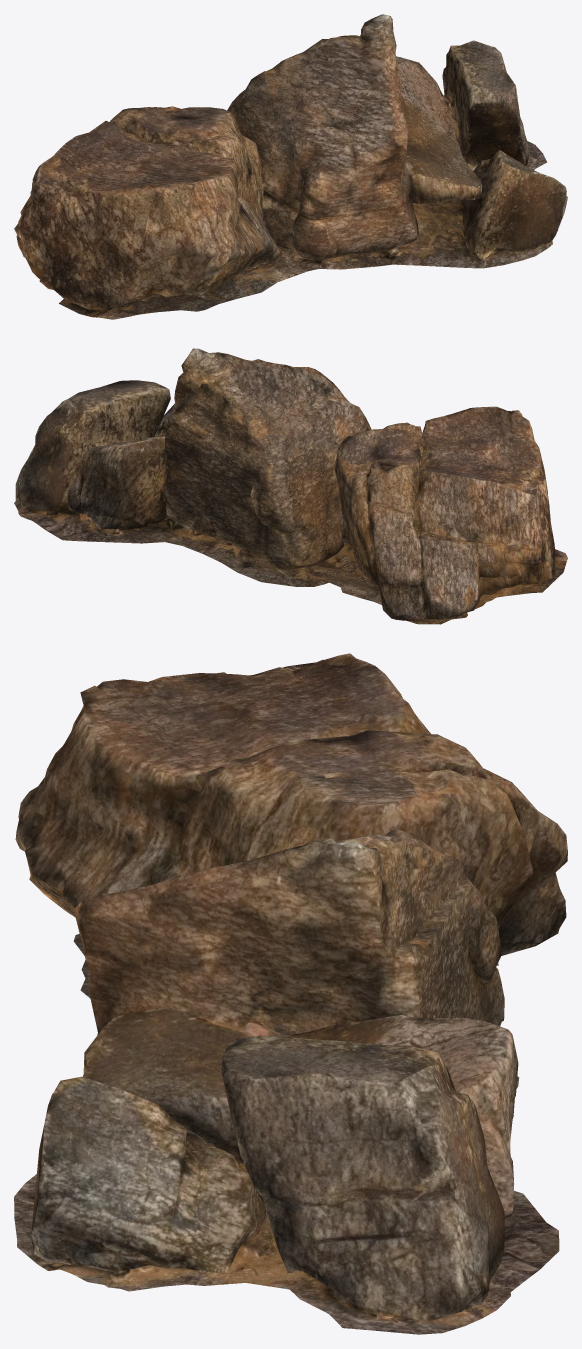
Rendered from ph_namaqualand_boulder_02.glb.
3 views of the same model, one above another, from view 1: azimuth 30°, elevation 25°; view 2: azimuth 150°, elevation 25°; view 3: azimuth 270°, elevation 25° (orthographic). The views are drawn at different scales.
Parts seen in each view (by area): view 1: boulder_02; view 2: boulder_02; view 3: boulder_02.
Boxes of the visible parts, x1,y1,x2,y2 form: boulder_02: (14, 14, 567, 319); boulder_02: (14, 348, 567, 624); boulder_02: (14, 653, 567, 1334).
Size of the model in its own units: 2.52 by 0.8802 by 1.23.
1 material, 1 textured.
